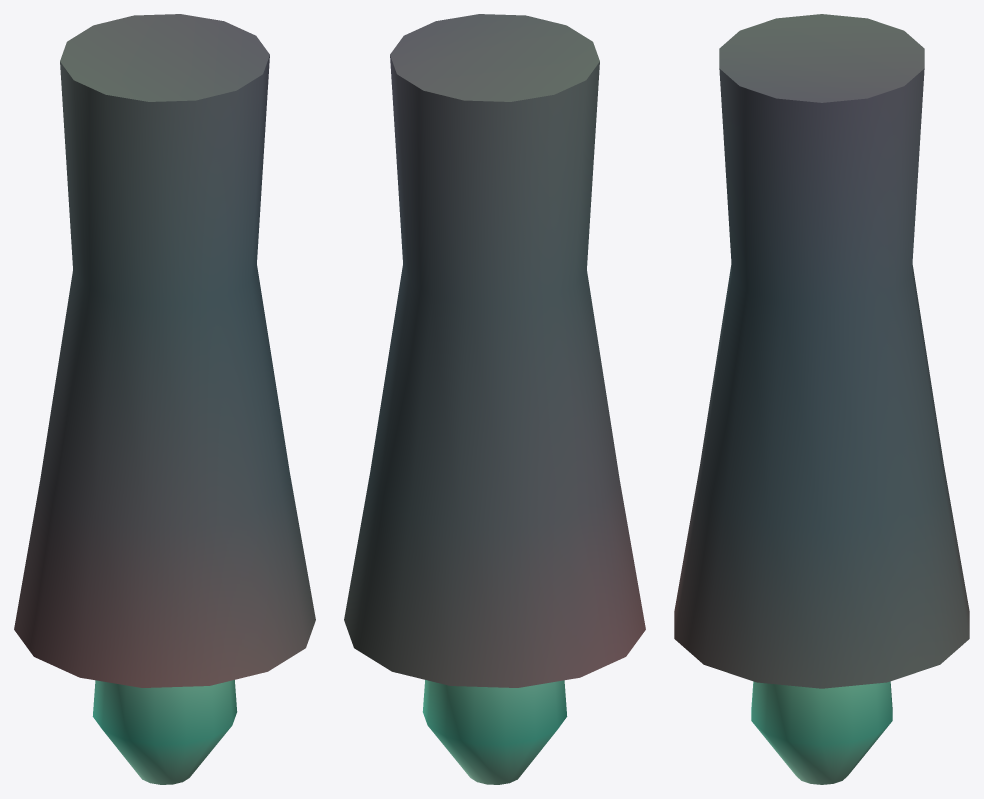
Rendered from bellkeeper_arm.glb.
3 renders of one model, left to right at view 1: azimuth 30°, elevation 25°; view 2: azimuth 150°, elevation 25°; view 3: azimuth 270°, elevation 25°, orthographic.
Parts seen in each view (by area): view 1: bk_arm, bk_fist; view 2: bk_arm, bk_fist; view 3: bk_arm, bk_fist.
Boxes of the visible parts, x1,y1,x2,y2 form: bk_arm: [14, 14, 315, 687]; bk_fist: [92, 680, 237, 784]; bk_arm: [344, 14, 645, 687]; bk_fist: [422, 680, 567, 784]; bk_arm: [674, 14, 969, 688]; bk_fist: [751, 681, 892, 784].
Bounding box in the file's own units: 0.46 × 1.2 × 0.4485.
